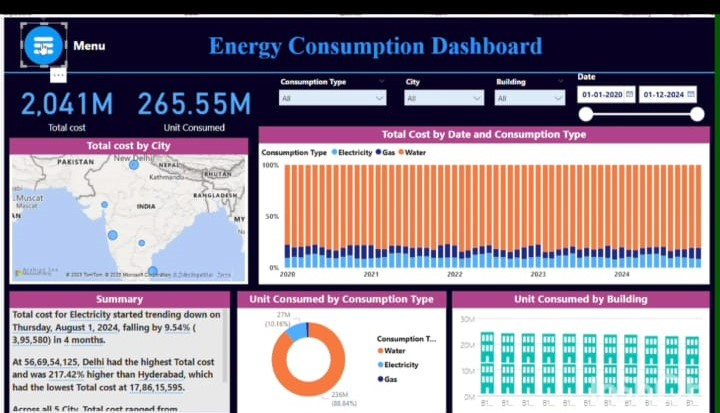

What the dashboard file says about the page in this screenshot:
{"tool":"powerbi","page":{"name":"Summary","canvas":[1280,720],"ordinal":0},"visuals":[{"type":"shape","box":[0,81.4,1280,35.7],"z":0},{"type":"image","box":[20,11.4,100,78.6],"z":1000},{"type":"textbox","box":[280,20,778.3,60],"z":2000},{"type":"textbox","box":[120,30,160,51.7],"z":3000},{"type":"card","fields":{"Values":["Energy Consumption.Total cost"]},"box":[0,100,226.7,115],"z":4000},{"type":"card","fields":{"Values":["Energy Consumption.Unit Consumed"]},"box":[226.7,100,231.7,115],"z":5000},{"type":"slicer","fields":{"Values":["Energy Consumption.Consumption Type"]},"box":[485,100,213.3,78.3],"z":6000},{"type":"slicer","fields":{"Values":["Energy Consumption.Building"]},"box":[873.3,100,146.7,78.3],"z":7000},{"type":"slicer","fields":{"Values":["Building Master.City"]},"box":[710,100,163.3,78.3],"z":8000},{"type":"slicer","fields":{"Values":["Energy Consumption.Date"]},"box":[1020,90,250,153.3],"z":9000},{"type":"hundredPercentStackedColumnChart","title":"Total Cost by Date and Consumption Type","fields":{"Y":["Energy Consumption.Total cost"],"Series":["Energy Consumption.Consumption Type"],"Category":["Energy Consumption.Date"]},"box":[458.3,195,811.7,281.7],"z":10000},{"type":"textbox","title":"Summary","box":[9.9,490.4,396.9,218.3],"z":11000},{"type":"donutChart","fields":{"Category":["Energy Consumption.Consumption Type"],"Y":["Energy Consumption.Unit Consumed"]},"box":[420,490,375.7,218.6],"z":12000},{"type":"PBI_CV_73744D90_4DC9_4F18_8BA5_EE8FA5C98035","fields":{"Category":["Building Master.Building"],"Values":["Energy Consumption.Unit Consumed"]},"box":[806.7,490,463.3,218.3],"z":13000},{"type":"map","fields":{"Category":["Building Master.City"],"Size":["Energy Consumption.Total cost"]},"box":[9.9,215.4,429.4,260.8],"z":14000},{"type":"actionButton","box":[30,10,82.9,78.7],"z":15000}]}

Visuals, with their boxes in screenshot pixels (x1, y1, x2, y2), scaled from the page's 1280x720 canvas onto the 720x413 screenshot:
shape: locate(0, 47, 719, 67)
image: locate(11, 7, 68, 52)
textbox: locate(158, 11, 595, 46)
textbox: locate(68, 17, 158, 47)
card - Energy Consumption.Total cost: locate(0, 57, 128, 123)
card - Energy Consumption.Unit Consumed: locate(128, 57, 258, 123)
slicer - Energy Consumption.Consumption Type: locate(273, 57, 393, 102)
slicer - Energy Consumption.Building: locate(491, 57, 574, 102)
slicer - Building Master.City: locate(399, 57, 491, 102)
slicer - Energy Consumption.Date: locate(574, 52, 714, 140)
"Total Cost by Date and Consumption Type" hundredPercentStackedColumnChart: locate(258, 112, 714, 273)
"Summary" textbox: locate(6, 281, 229, 407)
donutChart - Energy Consumption.Consumption Type x Energy Consumption.Unit Consumed: locate(236, 281, 448, 406)
PBI_CV_73744D90_4DC9_4F18_8BA5_EE8FA5C98035 - Building Master.Building x Energy Consumption.Unit Consumed: locate(454, 281, 714, 406)
map - Building Master.City x Energy Consumption.Total cost: locate(6, 124, 247, 273)
actionButton: locate(17, 6, 64, 51)
